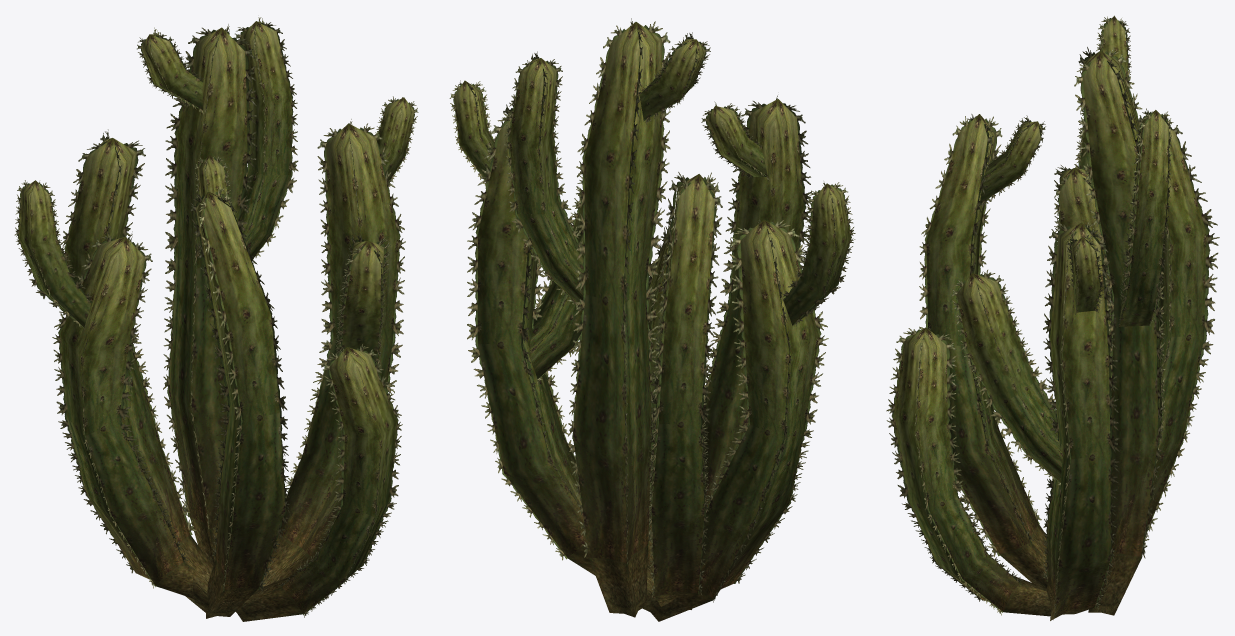
File: yw_yiwangfeixu_xianrenzhang01.FBX
The picture shows the model from 3 angles, left to right: view 1: azimuth 30°, elevation 25°; view 2: azimuth 150°, elevation 25°; view 3: azimuth 270°, elevation 25°; orthographic projection. The views are drawn at different scales.
Visible parts, largest first — view 1: yw_yiwangfeixu_xianrenzhang01; view 2: yw_yiwangfeixu_xianrenzhang01; view 3: yw_yiwangfeixu_xianrenzhang01.
Boxes of the visible parts, bbox=[...] form: yw_yiwangfeixu_xianrenzhang01: bbox=[14, 17, 418, 621]; yw_yiwangfeixu_xianrenzhang01: bbox=[449, 18, 855, 621]; yw_yiwangfeixu_xianrenzhang01: bbox=[886, 15, 1219, 620].
Bounding box in the file's own units: 161 × 233 × 124.
